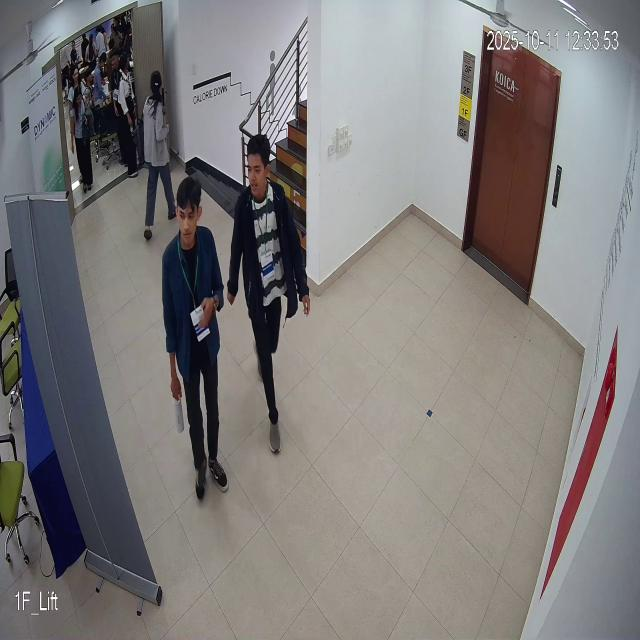face: (169, 172, 207, 256), (240, 128, 277, 208)
